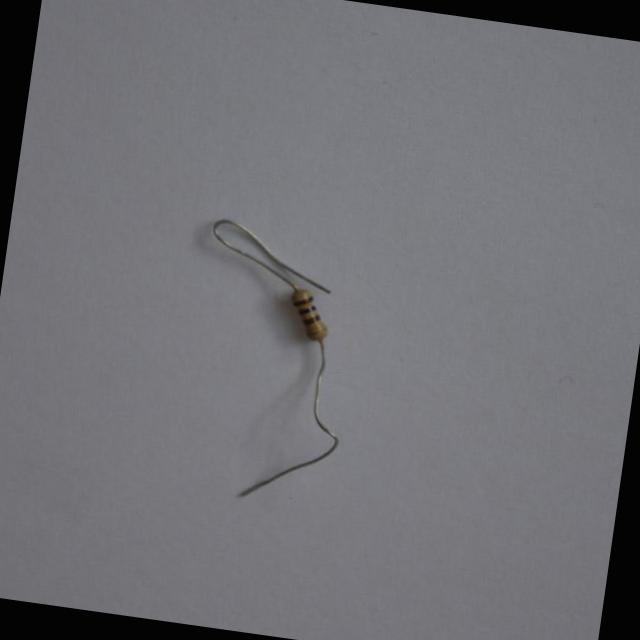Resistor: (285, 287, 335, 347)
black: (300, 304, 315, 314)
brown: (293, 293, 313, 305), (303, 312, 321, 324)
gold: (305, 321, 326, 334)
